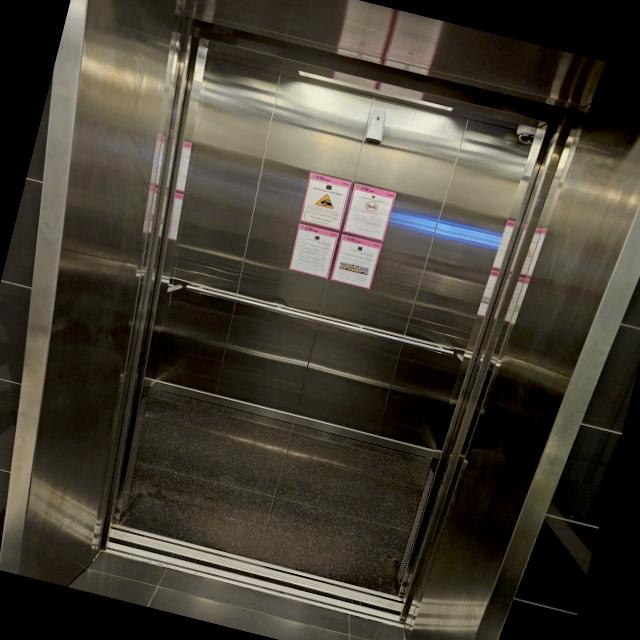footpath: (102, 399, 417, 640)
